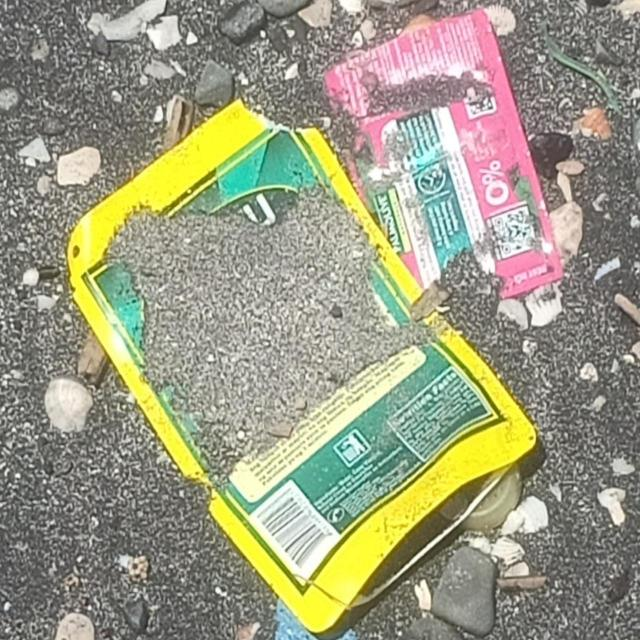litter: (64, 92, 541, 638), (322, 5, 564, 299)
